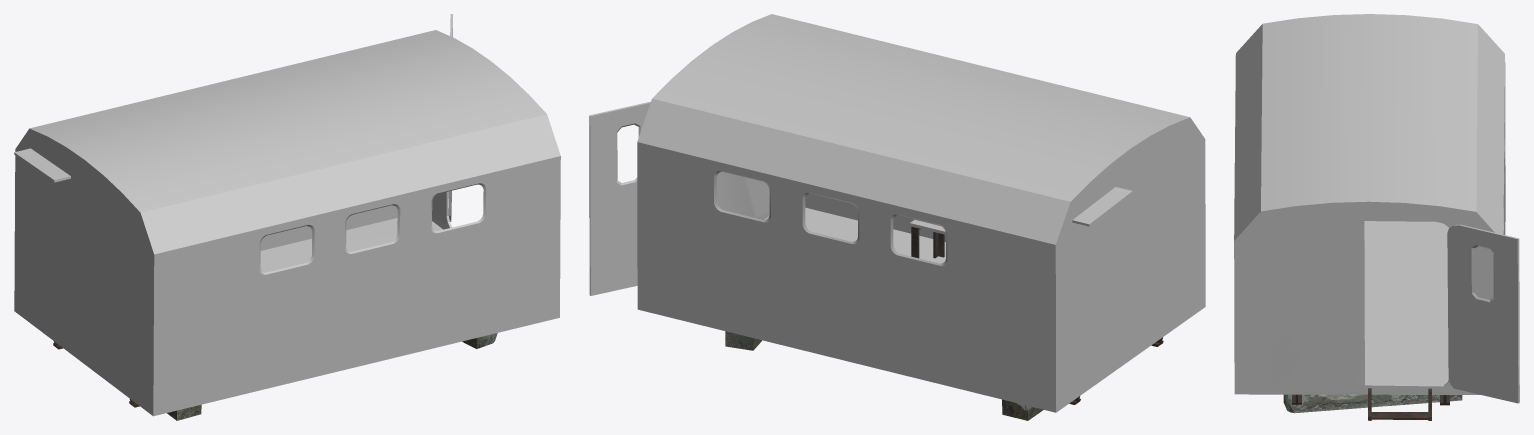
The model's file is CargoHome01.FBX.
The picture shows the model from 3 angles, left to right: view 1: azimuth 30°, elevation 25°; view 2: azimuth 150°, elevation 25°; view 3: azimuth 270°, elevation 25°; orthographic projection. The views are drawn at different scales.
Parts seen in each view (by area): view 1: CargoHome01a, CargoHome01d, CargoHome01b; view 2: CargoHome01a, CargoHome01d, CargoHome01b, CargoHome01c; view 3: CargoHome01a, CargoHome01d, CargoHome01b, CargoHome01c.
Boxes of the visible parts, box(x1,y1,x2,y2) form: CargoHome01a: box(14, 14, 560, 416); CargoHome01d: box(260, 218, 442, 272); CargoHome01b: box(167, 333, 497, 420); CargoHome01a: box(589, 14, 1205, 412); CargoHome01d: box(764, 207, 945, 263); CargoHome01b: box(725, 331, 1043, 420); CargoHome01c: box(911, 226, 1163, 404); CargoHome01a: box(1234, 14, 1519, 403); CargoHome01d: box(1364, 221, 1448, 385); CargoHome01b: box(1283, 394, 1462, 413); CargoHome01c: box(1292, 388, 1449, 420).
Size of the model in its own units: 286 by 142 by 161.
